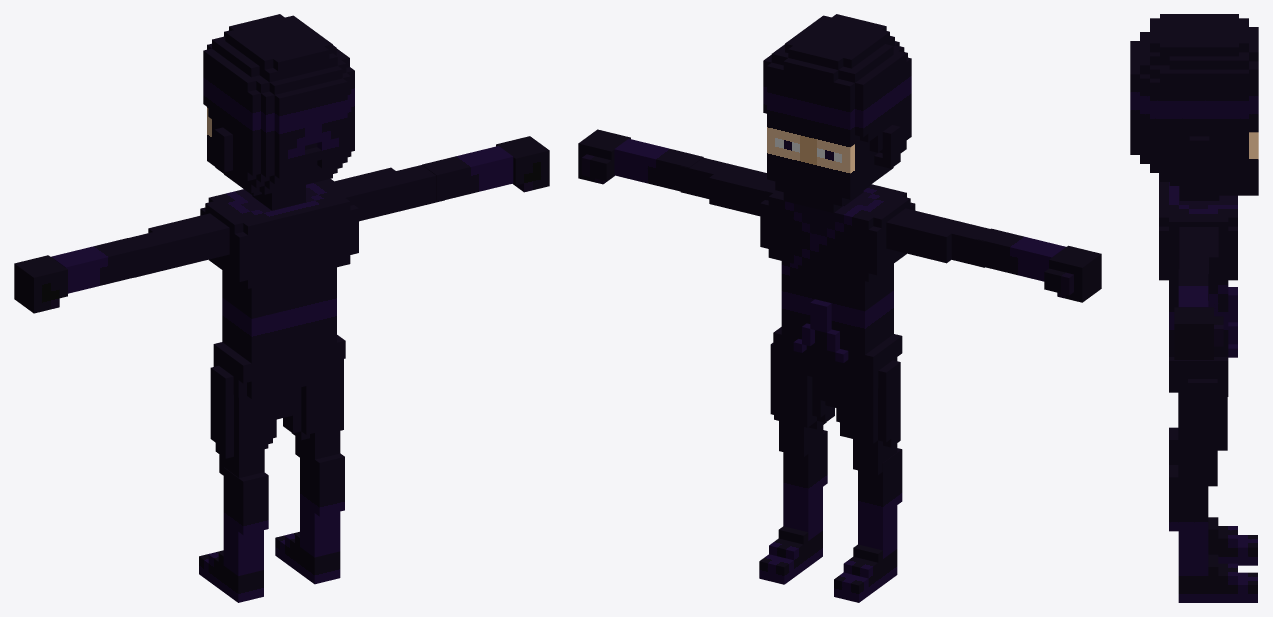
File: Ninja_Tpose.dae
3 renders of one model, left to right at view 1: azimuth 30°, elevation 25°; view 2: azimuth 150°, elevation 25°; view 3: azimuth 270°, elevation 25°, orthographic. The views are drawn at different scales.
Parts seen in each view (by area): view 1: Head-local, Chest-local, Left_Thigh-local, Hip-local, Belly-local, Left_Leg-local, Right_Thigh-local, Right_Leg-local, Left_Arm-local, Right_Arm-local, Right_Forearm-local, Left_Forearm-local (+4 smaller); view 2: Head-local, Chest-local, Hip-local, Left_Thigh-local, Belly-local, Right_Thigh-local, Left_Arm-local, Left_Leg-local, Right_Arm-local, Right_Leg-local, Right_Forearm-local, Left_Forearm-local (+4 smaller); view 3: Head-local, Chest-local, Right_Thigh-local, Right_Leg-local, Right_Foot-local, Right_Hand-local, Hip-local, Right_Arm-local, Left_Foot-local, Right_Forearm-local, Belly-local, Left_Leg-local.
Boxes of the visible parts, x1=… form: Head-local: x1=203, y1=14, x2=354, y2=210; Chest-local: x1=200, y1=179, x2=358, y2=318; Left_Thigh-local: x1=210, y1=365, x2=284, y2=477; Hip-local: x1=213, y1=333, x2=345, y2=398; Belly-local: x1=222, y1=289, x2=336, y2=354; Left_Leg-local: x1=223, y1=467, x2=268, y2=575; Right_Thigh-local: x1=283, y1=359, x2=343, y2=468; Right_Leg-local: x1=300, y1=453, x2=344, y2=557; Left_Arm-local: x1=128, y1=213, x2=229, y2=277; Right_Arm-local: x1=334, y1=165, x2=444, y2=221; Right_Forearm-local: x1=422, y1=146, x2=513, y2=201; Left_Forearm-local: x1=51, y1=238, x2=142, y2=293; Head-local: x1=763, y1=14, x2=911, y2=212; Chest-local: x1=760, y1=184, x2=915, y2=310; Hip-local: x1=773, y1=325, x2=902, y2=391; Left_Thigh-local: x1=828, y1=360, x2=900, y2=474; Belly-local: x1=781, y1=282, x2=893, y2=345; Right_Thigh-local: x1=770, y1=343, x2=834, y2=456; Left_Arm-local: x1=886, y1=208, x2=989, y2=267; Left_Leg-local: x1=858, y1=448, x2=902, y2=558; Right_Arm-local: x1=680, y1=157, x2=775, y2=216; Right_Leg-local: x1=783, y1=430, x2=827, y2=540; Right_Forearm-local: x1=614, y1=138, x2=703, y2=191; Left_Forearm-local: x1=976, y1=228, x2=1065, y2=281; Head-local: x1=1130, y1=14, x2=1258, y2=200; Chest-local: x1=1159, y1=173, x2=1237, y2=308; Right_Thigh-local: x1=1178, y1=379, x2=1227, y2=486; Right_Leg-local: x1=1169, y1=465, x2=1208, y2=575; Right_Foot-local: x1=1178, y1=554, x2=1257, y2=602; Right_Hand-local: x1=1174, y1=307, x2=1223, y2=359; Hip-local: x1=1169, y1=335, x2=1237, y2=396; Right_Arm-local: x1=1179, y1=227, x2=1218, y2=300; Left_Foot-local: x1=1208, y1=517, x2=1257, y2=565; Right_Forearm-local: x1=1178, y1=269, x2=1208, y2=307; Belly-local: x1=1169, y1=287, x2=1237, y2=347; Left_Leg-local: x1=1169, y1=427, x2=1178, y2=464.
Size of the model in its own units: 60.5 by 61.05 by 13.
Materials: 16 (16 with a texture image).
